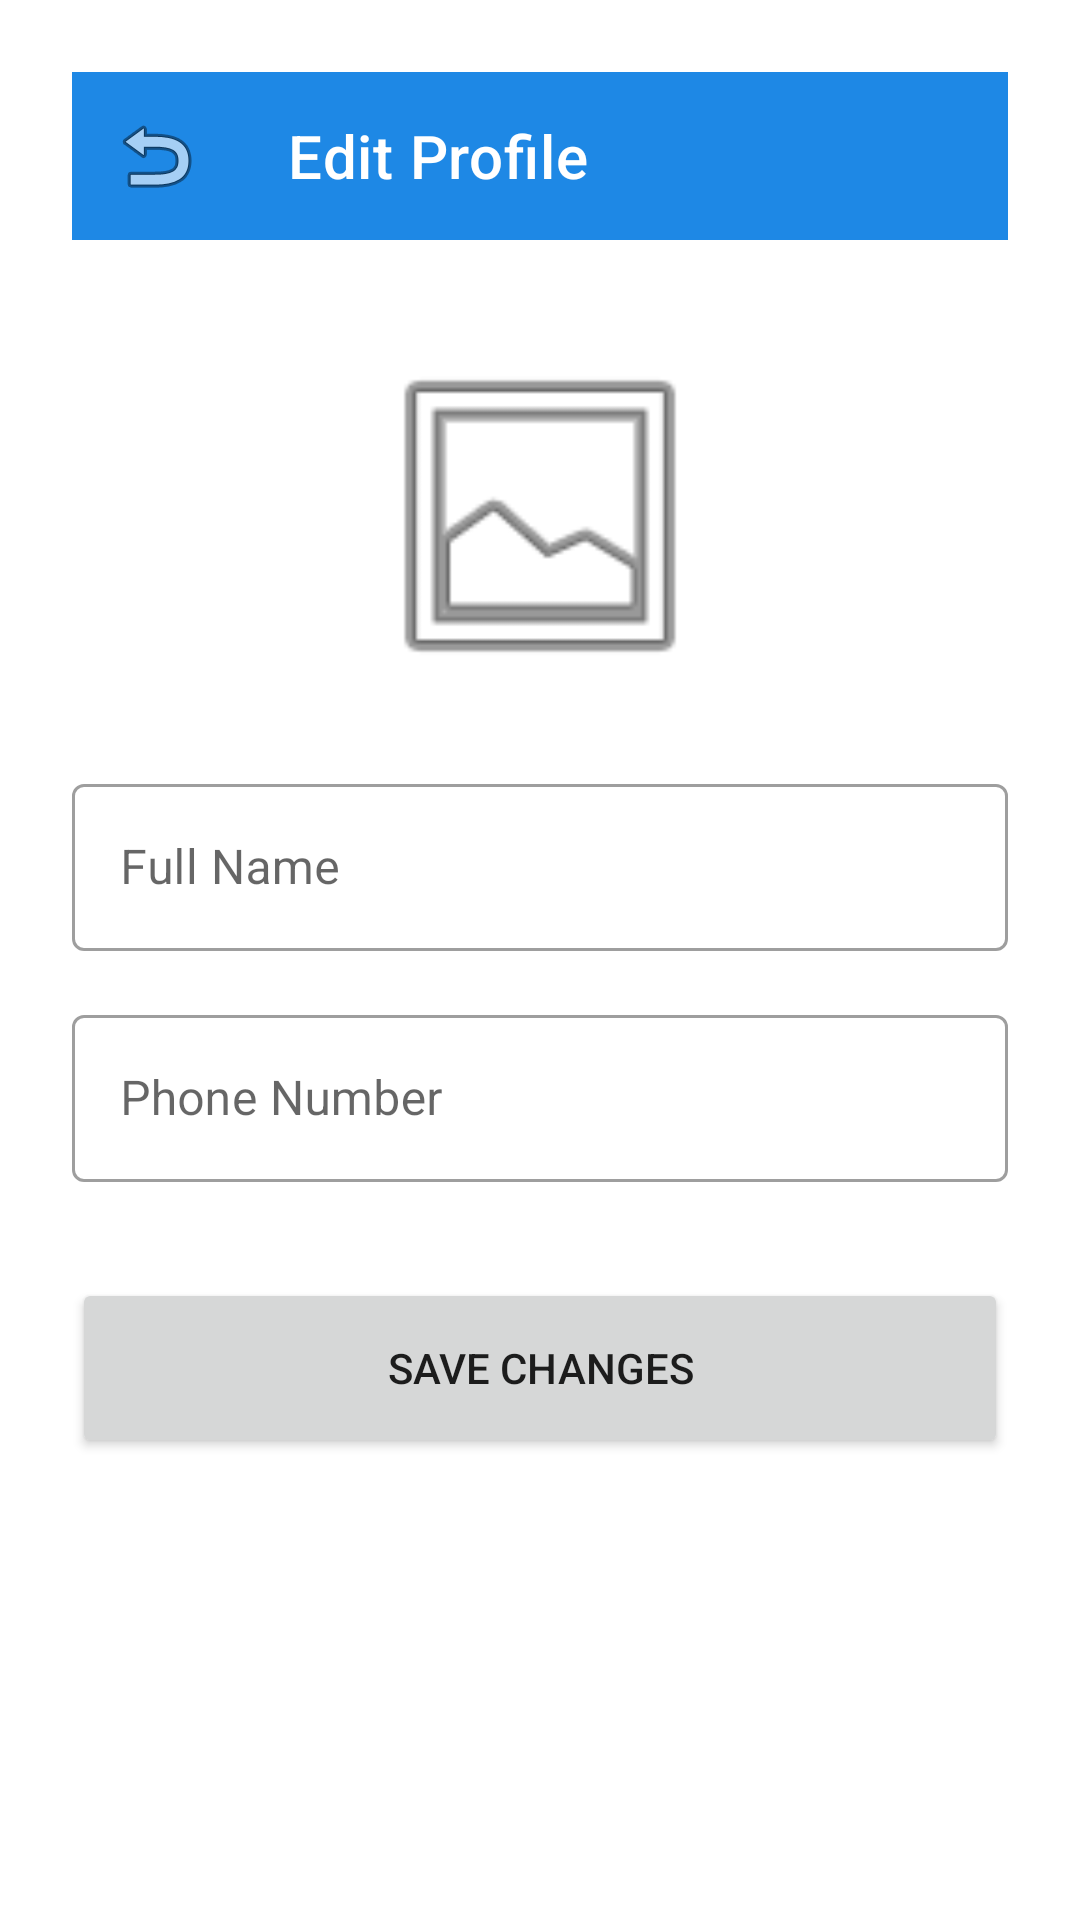

Screen size 1080 × 1920. Icon name, then its center in pixels as [x,y]:
gallery: [540,516]
